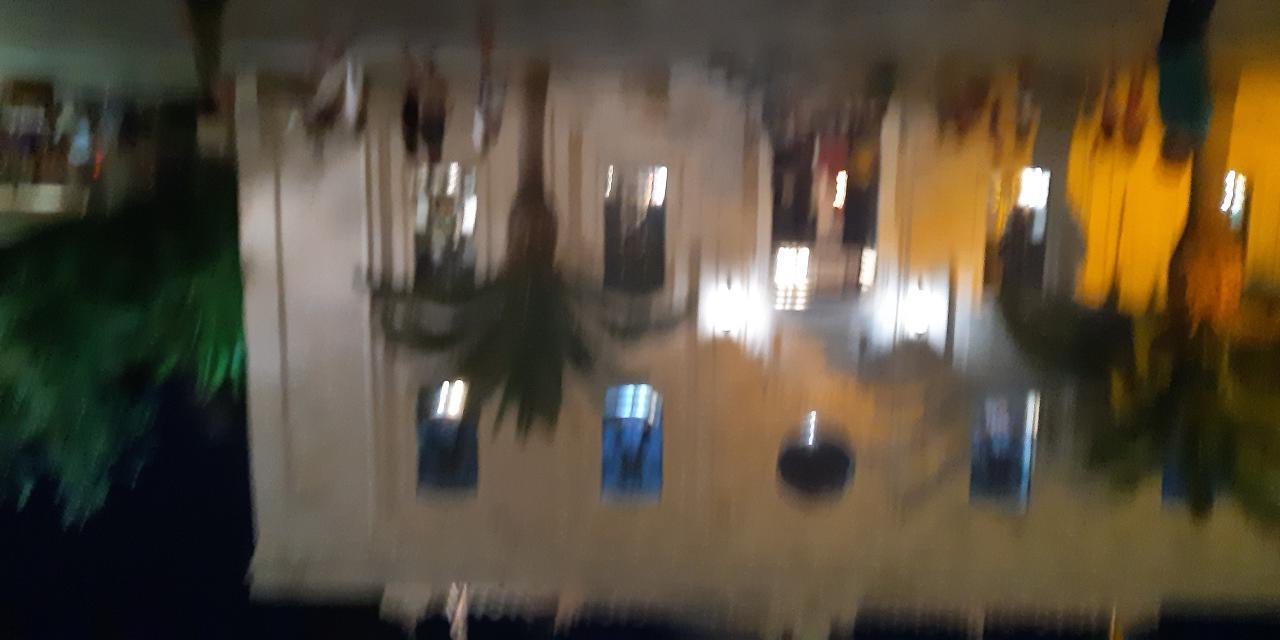Agios Titos: (237, 70, 1264, 619)
